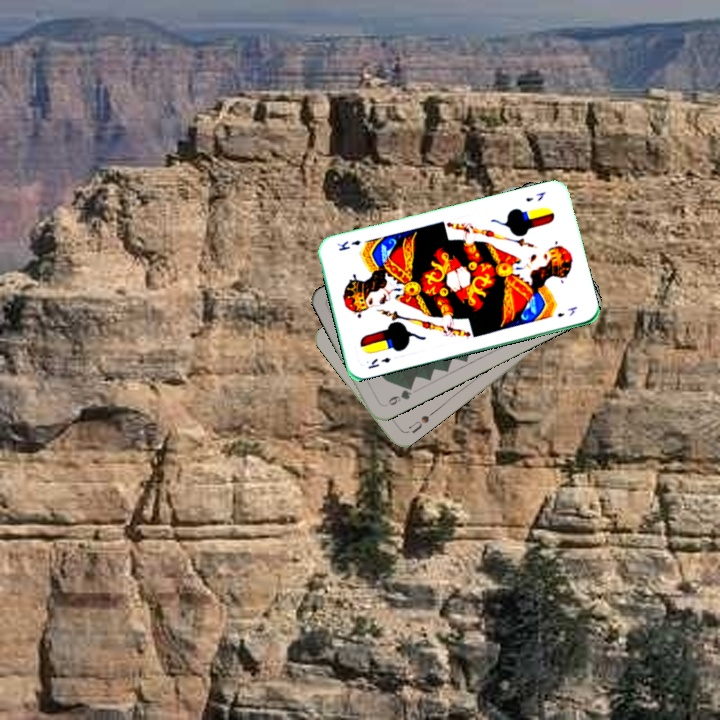EK: (364, 353, 393, 371), (522, 188, 548, 204)
G9: (384, 381, 415, 408)
SU: (401, 411, 432, 436)
